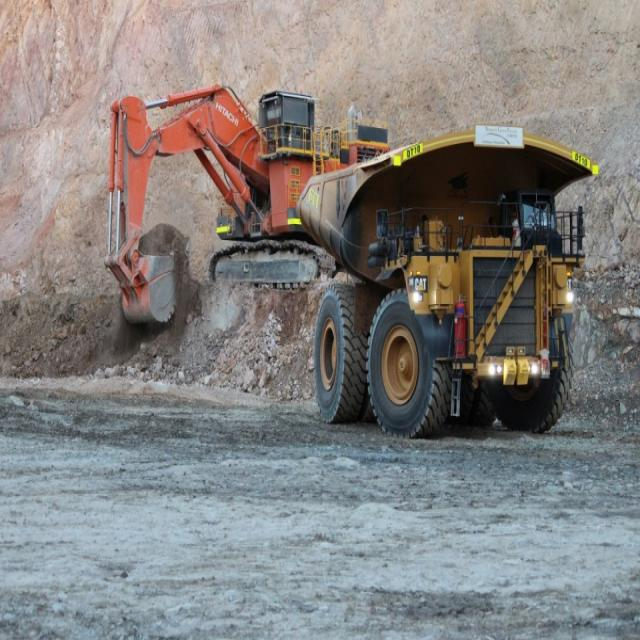dump_truck: (293, 120, 605, 446)
excavator: (105, 63, 354, 330)
